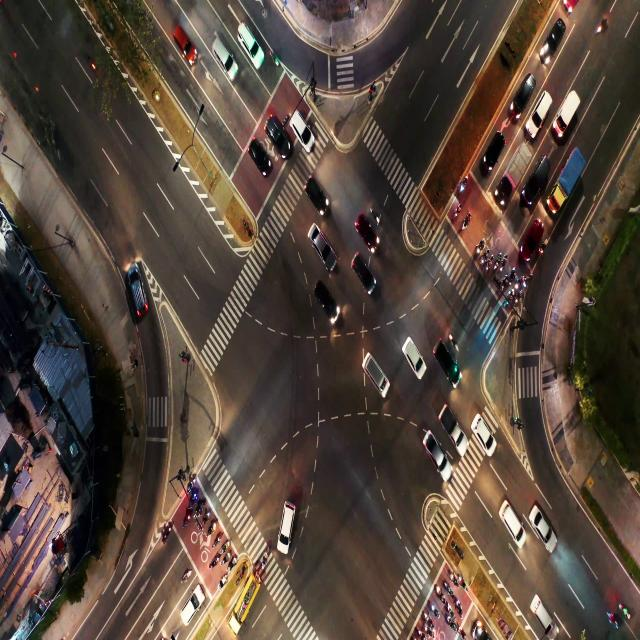bus: (243, 578, 253, 614)
car: (180, 588, 205, 623), (128, 267, 144, 311), (282, 506, 294, 557), (315, 232, 332, 268), (366, 360, 386, 390), (430, 439, 447, 474), (528, 599, 552, 621), (515, 81, 532, 112), (440, 350, 460, 376), (175, 33, 196, 57), (548, 24, 564, 55), (503, 510, 522, 535), (357, 264, 372, 293), (358, 220, 376, 244), (244, 28, 257, 61), (408, 344, 423, 372), (482, 417, 494, 450), (218, 41, 232, 68), (269, 122, 283, 149), (295, 116, 308, 141), (488, 134, 499, 162), (310, 186, 324, 207), (537, 98, 548, 124), (324, 295, 334, 323), (535, 516, 549, 535), (534, 167, 545, 190), (252, 141, 260, 172), (527, 227, 536, 252)
motorcycle: (262, 550, 269, 568), (164, 527, 172, 541), (449, 333, 456, 348), (448, 619, 456, 632), (502, 274, 508, 290), (184, 570, 191, 583), (453, 204, 460, 217), (476, 241, 483, 254), (183, 512, 190, 524), (211, 556, 218, 568), (220, 576, 227, 588), (462, 216, 470, 225), (460, 180, 467, 190), (430, 603, 437, 613), (208, 522, 214, 533), (460, 577, 466, 588), (436, 587, 442, 598), (487, 255, 491, 271), (196, 504, 202, 514), (372, 208, 377, 220), (425, 626, 431, 636), (190, 495, 197, 503), (214, 534, 219, 545), (525, 275, 530, 286), (444, 582, 450, 591), (449, 605, 454, 614), (484, 249, 488, 260), (517, 290, 521, 301), (188, 480, 193, 488), (223, 554, 227, 564), (511, 268, 515, 278), (542, 242, 546, 251), (460, 628, 464, 637), (451, 575, 456, 582), (458, 600, 461, 611), (204, 512, 208, 520), (222, 546, 226, 554), (230, 560, 235, 566), (496, 257, 499, 267), (516, 281, 520, 288), (427, 615, 430, 622), (503, 259, 505, 269), (508, 294, 511, 300), (418, 627, 420, 634)
truck: (560, 101, 582, 131), (561, 158, 577, 197), (446, 406, 459, 436), (512, 148, 522, 182)
